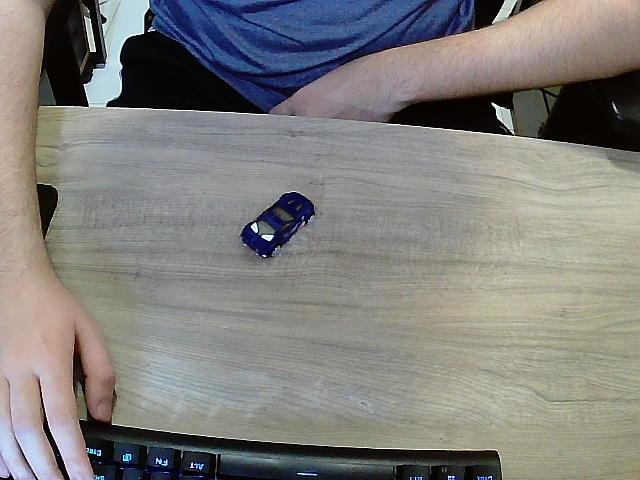Carro: (240, 193, 317, 260)
